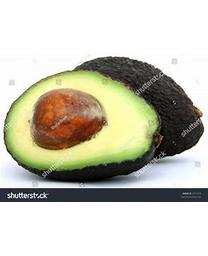avocado: (2, 69, 163, 183), (71, 57, 204, 161)
